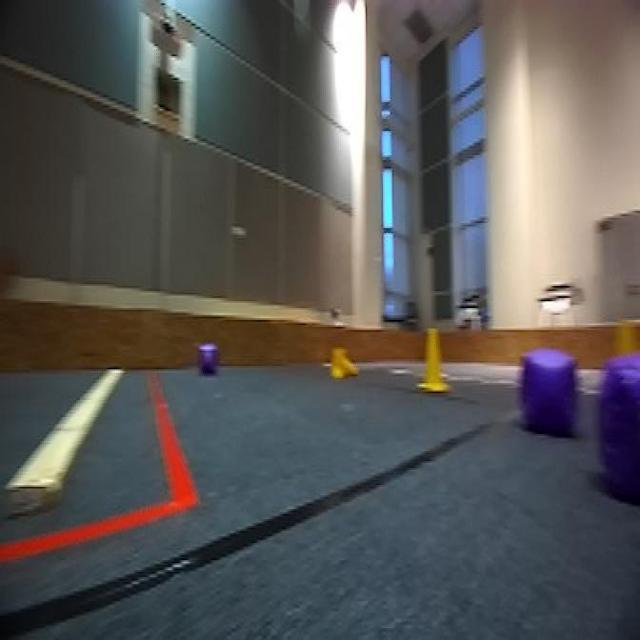frc_cone: (415, 325, 449, 397), (329, 346, 358, 380)
frc_cube: (591, 348, 640, 518), (516, 337, 586, 436), (195, 342, 219, 380)
